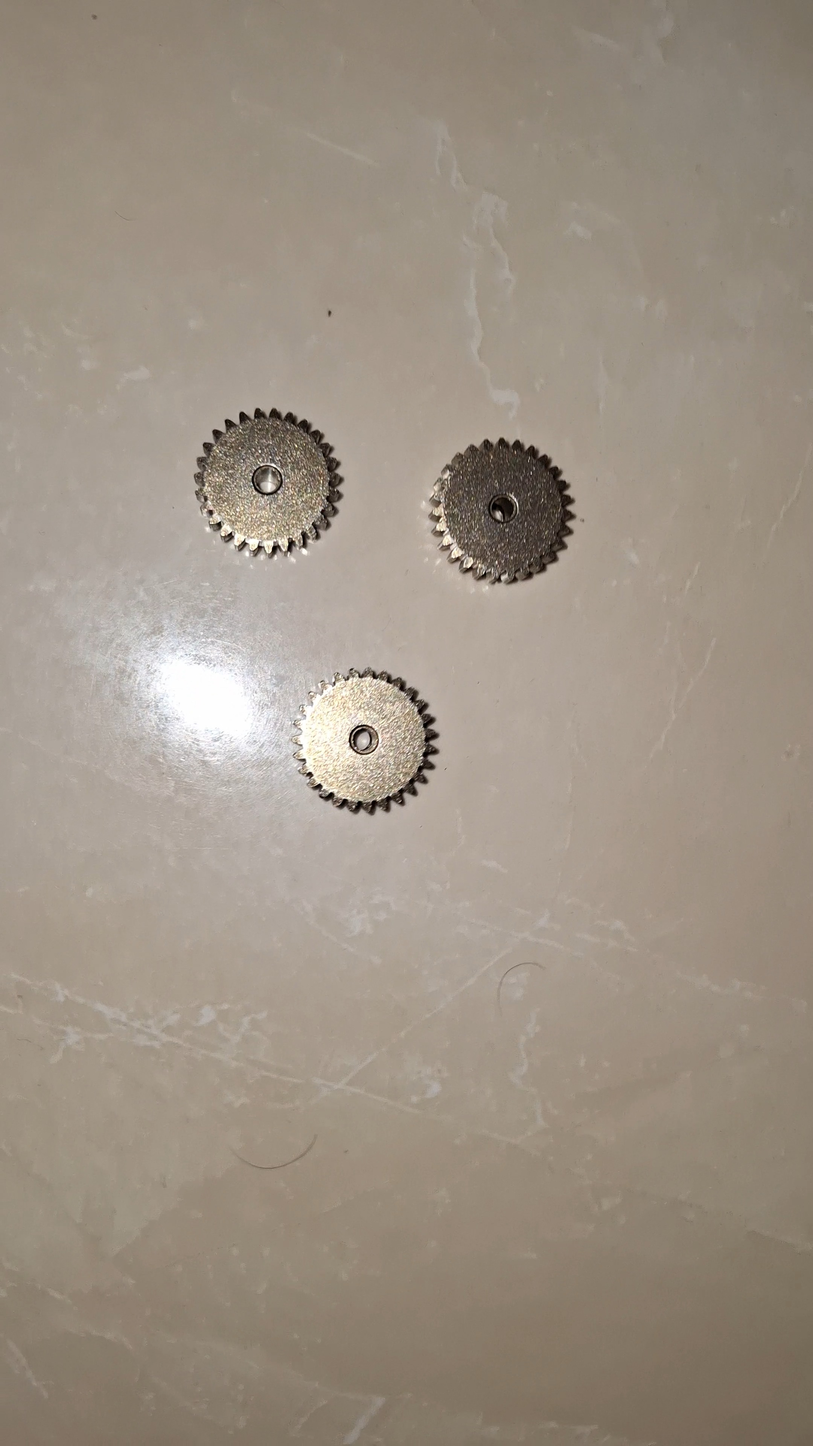spur gear: (196, 409, 340, 555), (293, 669, 437, 813), (432, 439, 572, 581)
